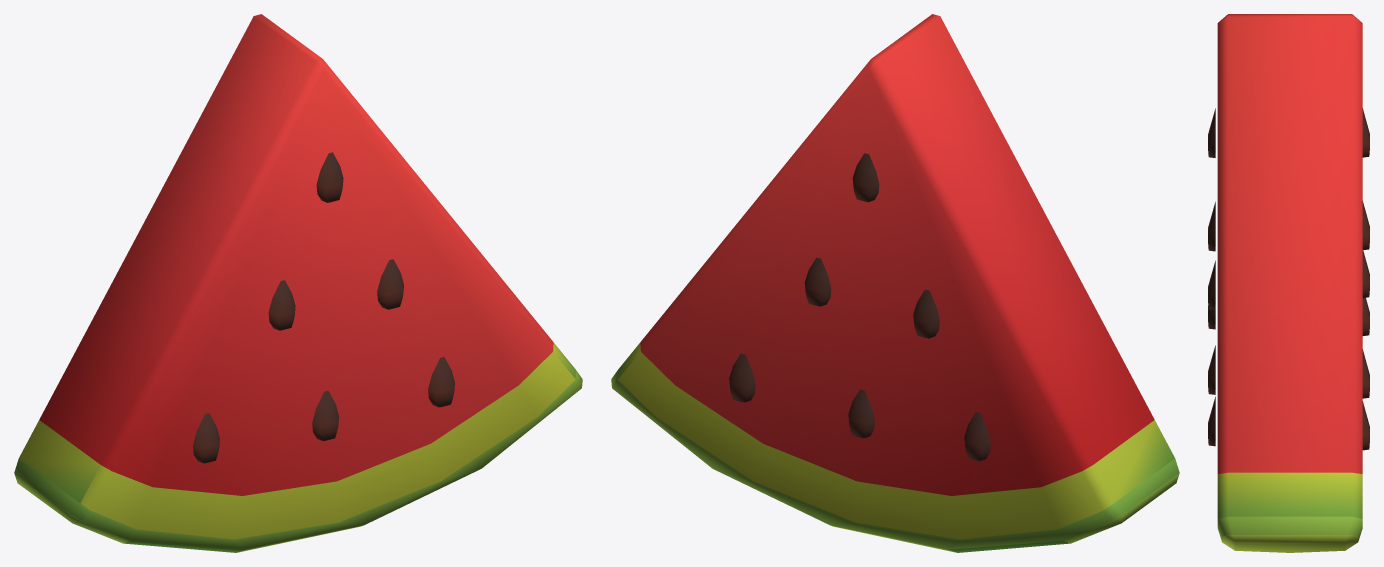
The model's file is watermelon_003.glb.
3 renders of one model, left to right at view 1: azimuth 30°, elevation 25°; view 2: azimuth 150°, elevation 25°; view 3: azimuth 270°, elevation 25°, orthographic.
Visible parts, largest first — view 1: watermelon_003; view 2: watermelon_003; view 3: watermelon_003.
Boxes of the visible parts, left/top/right/bottom form: watermelon_003: left=14, top=14, right=582, bottom=552; watermelon_003: left=611, top=14, right=1179, bottom=552; watermelon_003: left=1208, top=14, right=1369, bottom=552.
Bounding box in the file's own units: 0.1095 × 0.0982 × 0.0298.
1 material, 1 textured.
